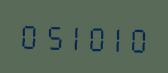five: (39, 18, 60, 52)
one: (106, 20, 127, 54), (62, 19, 83, 52)
zero: (17, 17, 38, 51), (128, 21, 149, 55), (84, 20, 105, 53)
